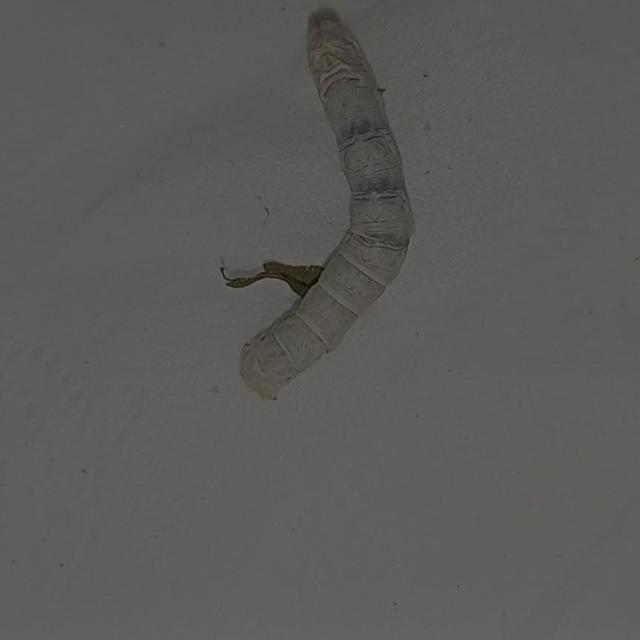Healthy: (212, 0, 450, 417)
